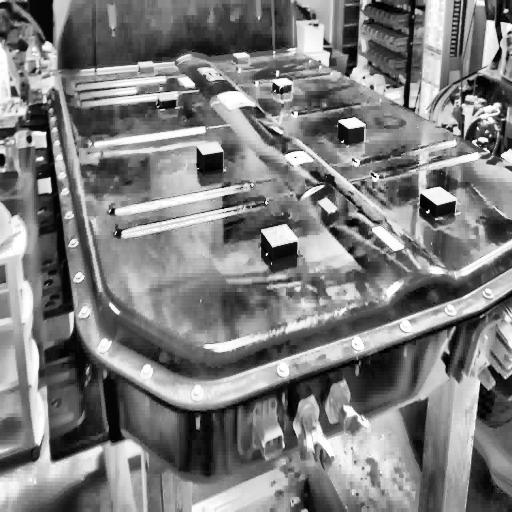b_casing: (45, 3, 512, 409)
nut: (141, 361, 154, 382), (97, 337, 112, 354), (77, 304, 92, 320), (482, 287, 496, 303), (277, 362, 290, 378), (192, 386, 204, 403), (445, 301, 457, 316), (74, 270, 84, 287), (352, 336, 364, 350), (401, 318, 412, 333), (68, 237, 79, 250), (61, 185, 70, 199), (65, 211, 74, 221), (59, 170, 67, 180), (54, 138, 61, 148), (52, 126, 58, 136), (57, 152, 63, 162)
